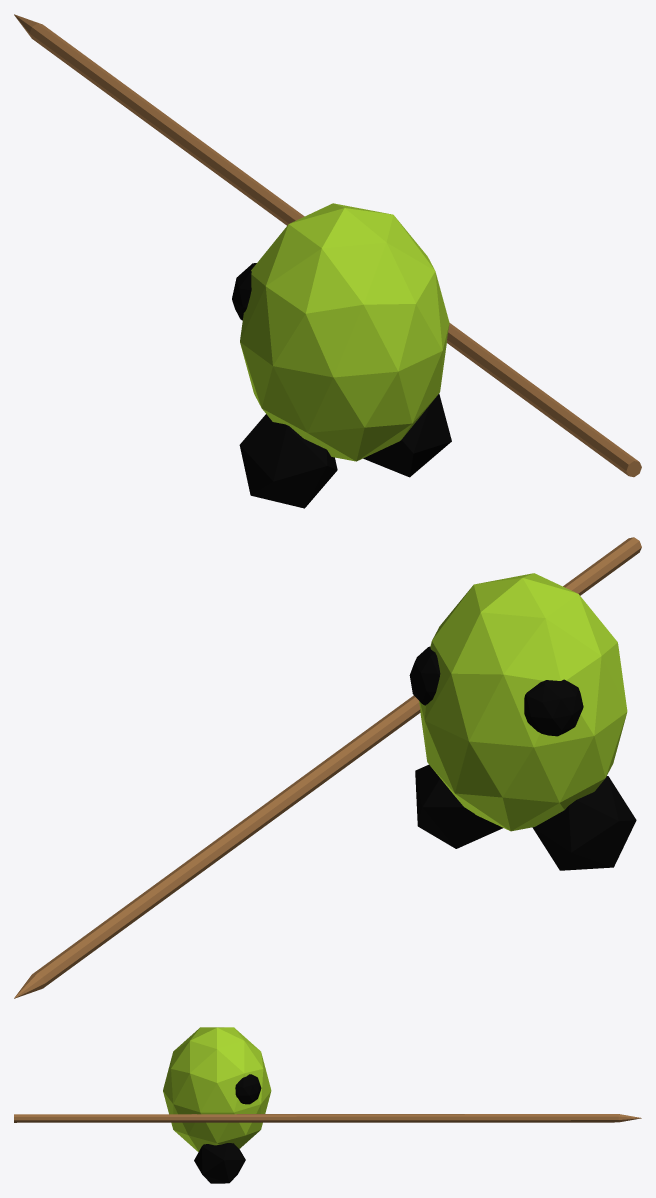
Rendered from walk.f0016.glb.
3 renders of one model, top to bottom at view 1: azimuth 30°, elevation 25°; view 2: azimuth 150°, elevation 25°; view 3: azimuth 270°, elevation 25°, orthographic. The views are drawn at different scales.
Parts seen in each view (by area): view 1: Body.001; view 2: Body.001; view 3: Body.001.
Part boxes in pixels (left/top/right/bottom): Body.001: left=14, top=14, right=641, bottom=508; Body.001: left=14, top=537, right=641, bottom=998; Body.001: left=14, top=1027, right=641, bottom=1183.
Bounding box in the file's own units: 2.17 × 2.88 × 11.56.
1 material, 1 textured.
